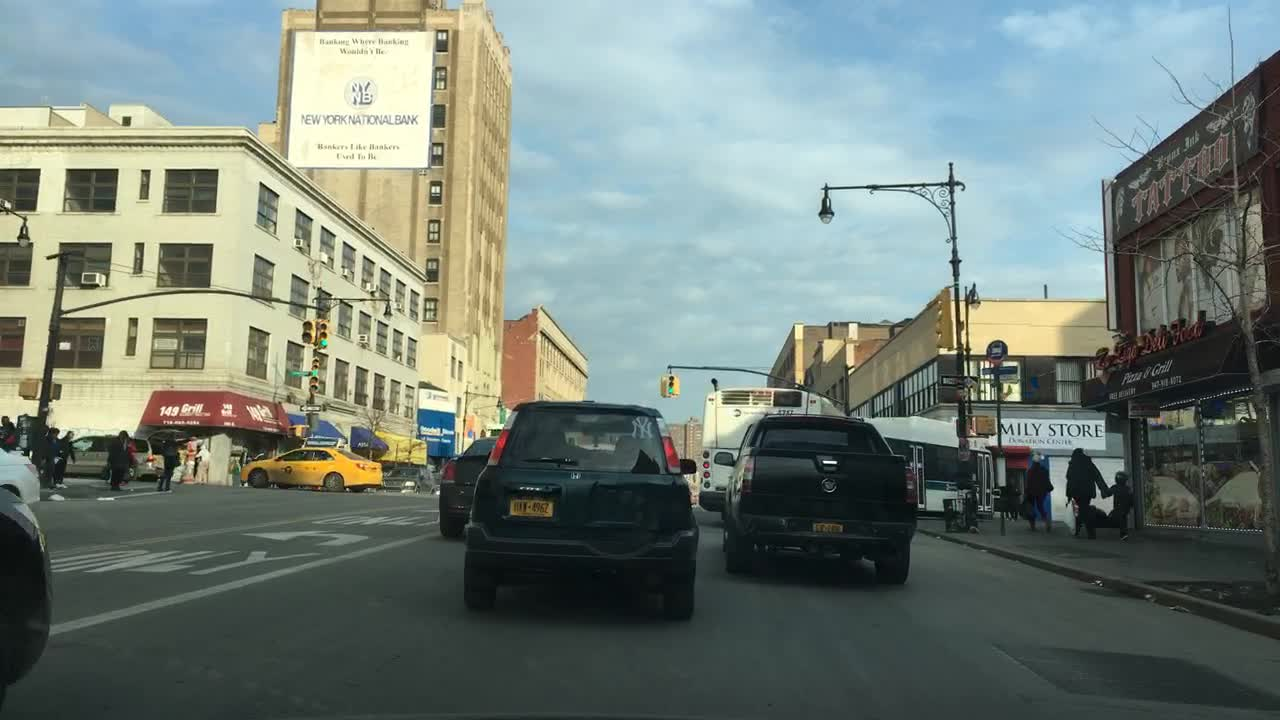bus: (698, 387, 852, 512), (866, 416, 999, 514)
car: (462, 401, 702, 624), (1, 479, 53, 708), (434, 437, 501, 540), (240, 444, 383, 491), (57, 434, 163, 481), (1, 443, 44, 509), (385, 462, 433, 493)
person: (1063, 444, 1105, 539), (1023, 453, 1057, 533), (1100, 469, 1133, 537), (104, 429, 139, 488), (36, 425, 62, 488), (154, 432, 177, 491), (58, 429, 74, 486), (191, 441, 210, 485), (0, 411, 16, 453)
traffic light: (932, 287, 952, 348), (13, 374, 37, 399), (310, 353, 322, 394), (973, 415, 994, 436), (317, 320, 329, 352), (953, 416, 969, 438), (301, 317, 314, 343), (665, 369, 674, 397), (282, 425, 301, 437), (50, 381, 62, 399), (672, 378, 681, 394), (660, 374, 665, 397)
traffic sign: (983, 339, 1008, 360), (939, 374, 976, 388), (300, 402, 328, 413), (978, 366, 1016, 374), (994, 374, 1022, 383), (289, 373, 307, 376)
truck: (712, 413, 920, 585)
